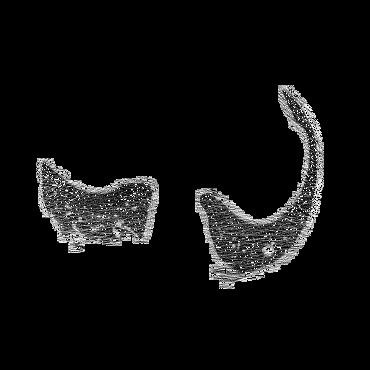PN: (262, 244, 274, 256)
